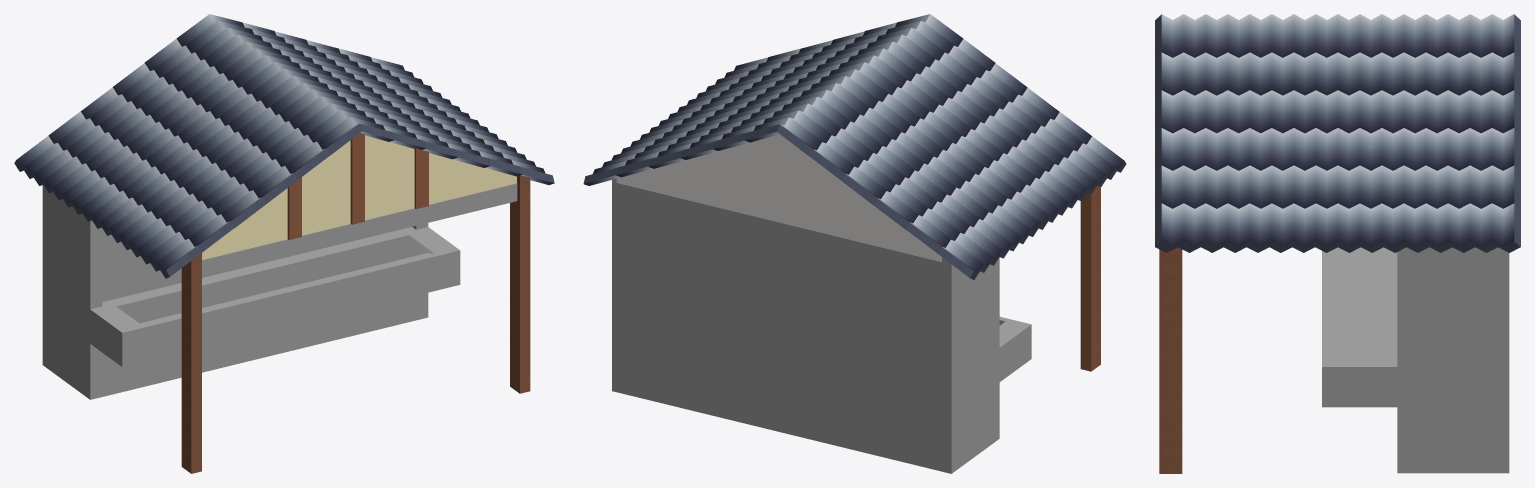
The model's file is Shop.fbx.
3 renders of one model, left to right at view 1: azimuth 30°, elevation 25°; view 2: azimuth 150°, elevation 25°; view 3: azimuth 270°, elevation 25°, orthographic. The views are drawn at different scales.
Visible parts, largest first — view 1: pCube95; view 2: pCube95; view 3: pCube95.
Part boxes in pixels (<box>): pCube95: <box>14,14,554,473</box>; pCube95: <box>583,14,1126,473</box>; pCube95: <box>1155,14,1520,473</box>.
Bounding box in the file's own units: 571 × 435 × 398.
